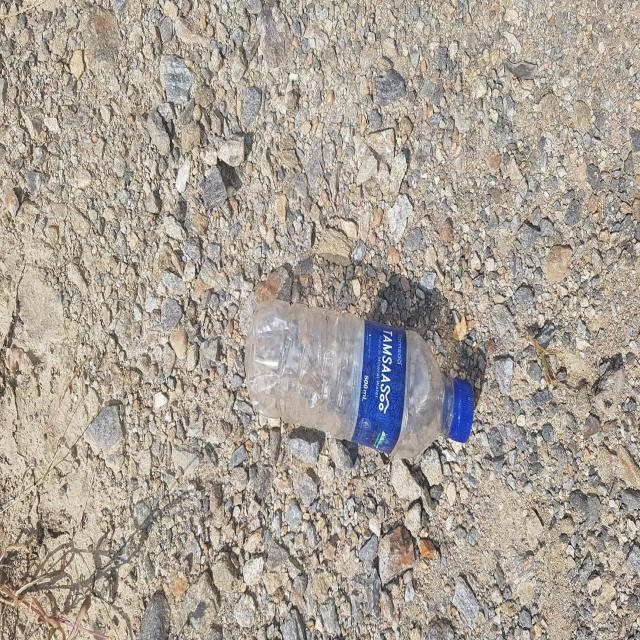plastic: (244, 299, 475, 458)
